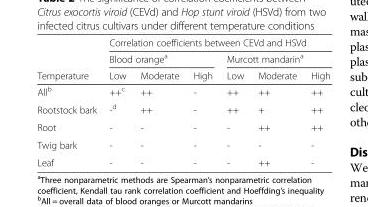table: (36, 36, 329, 167)
table column: (36, 36, 102, 167), (132, 36, 185, 167), (250, 36, 303, 167), (185, 36, 218, 167), (218, 36, 250, 167), (102, 36, 132, 167), (303, 36, 329, 167)
table column header: (36, 36, 329, 82)
table row: (36, 99, 329, 118), (36, 135, 329, 153), (36, 49, 329, 66), (36, 82, 329, 99), (36, 118, 329, 135), (36, 66, 329, 82), (36, 153, 329, 167), (36, 36, 329, 49)
table spanning cell: (36, 36, 102, 82), (102, 36, 329, 49), (102, 49, 218, 66), (218, 49, 329, 66)
